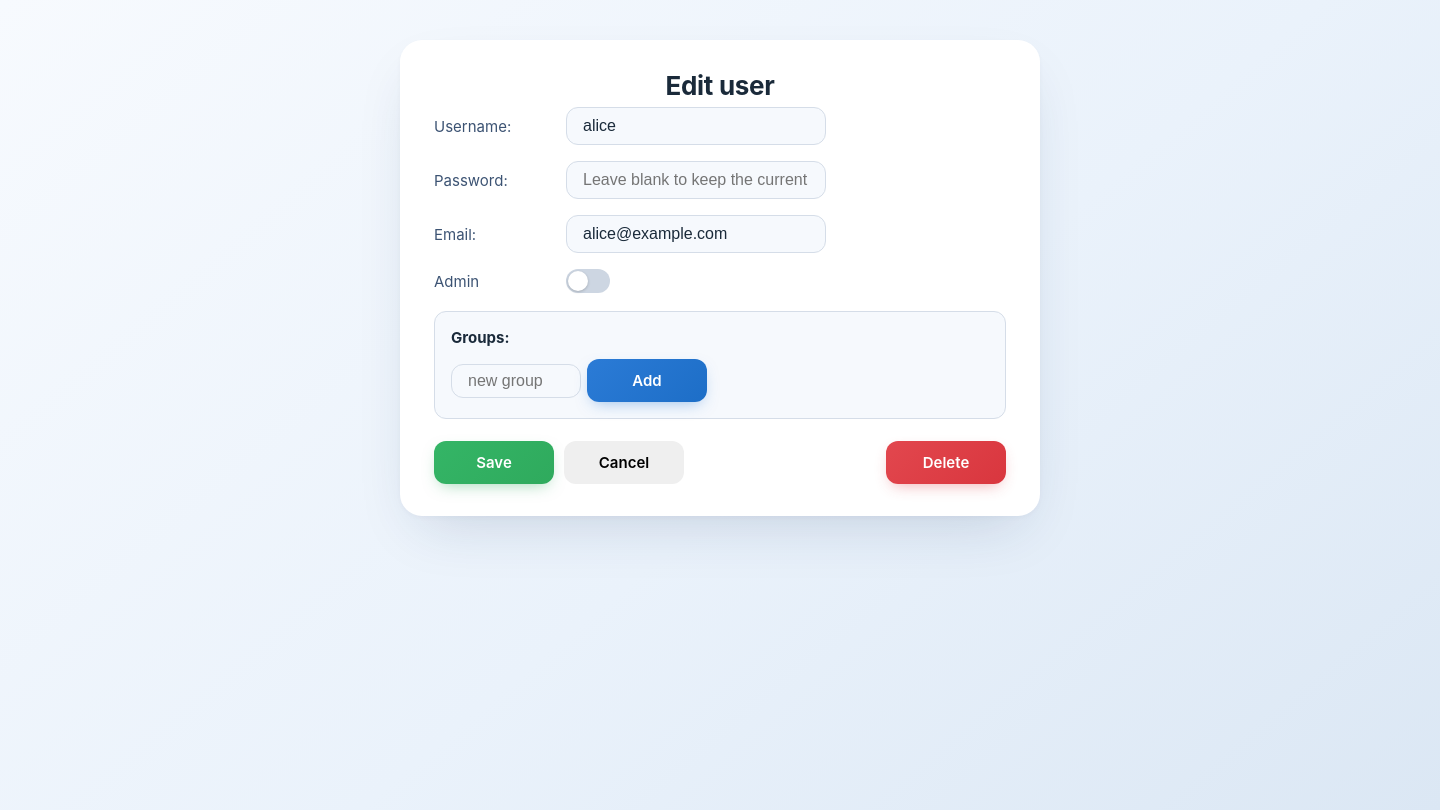
Test: edit: delete asks for confirmation before removing
The image size is (1440, 810).
Click the button with id "btn_delete": (946, 462) [886,441,1006,484]
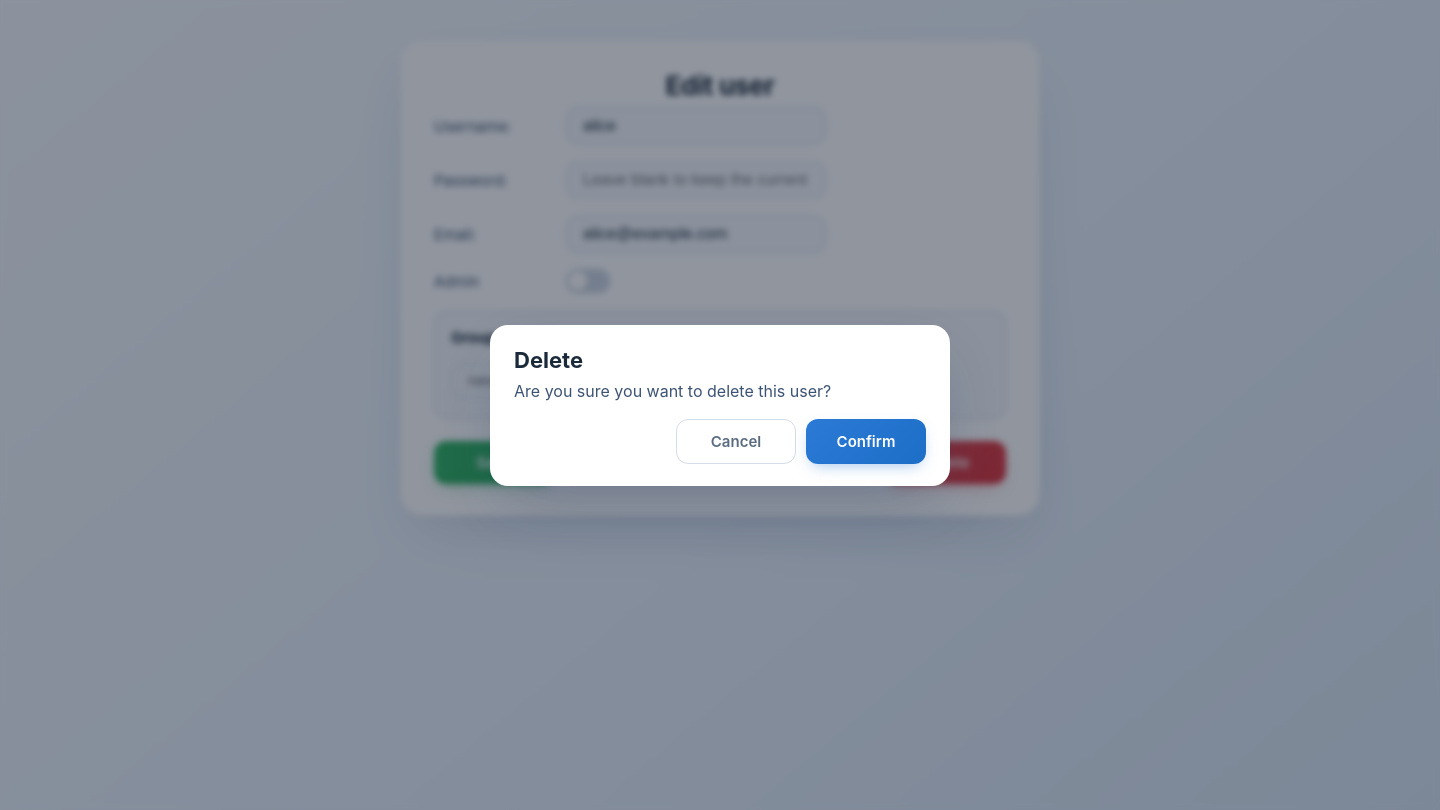
Expected: the button with test id "btn_confirm" is shown, [806,418,926,464]
